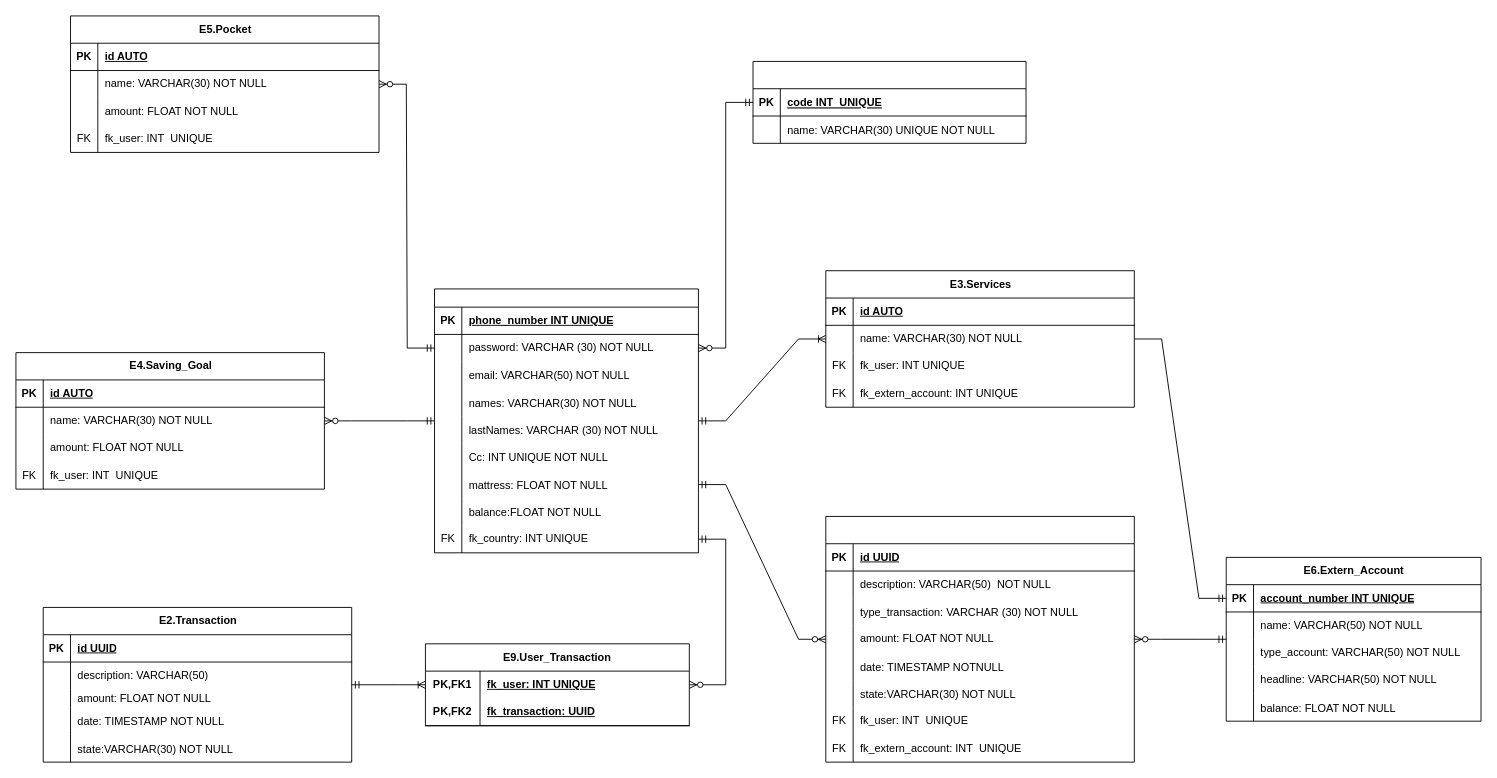
The diagram is 1497 pixels wide and 778 high, and some of its shapes have lost their labels. Here are the shapes that lost their labels. From the top down, the box of each, then its label:
(752, 61, 1026, 143): E8.Country
(434, 288, 698, 553): E1.User
(825, 516, 1134, 762): E7.Extern_Transaction
